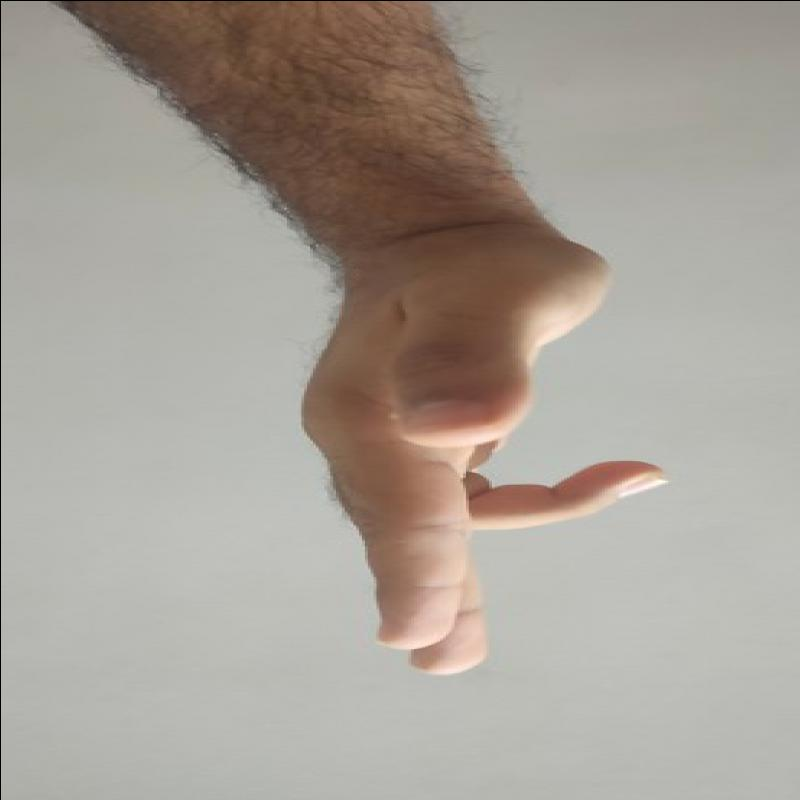Pathaaka: (285, 202, 675, 683)
